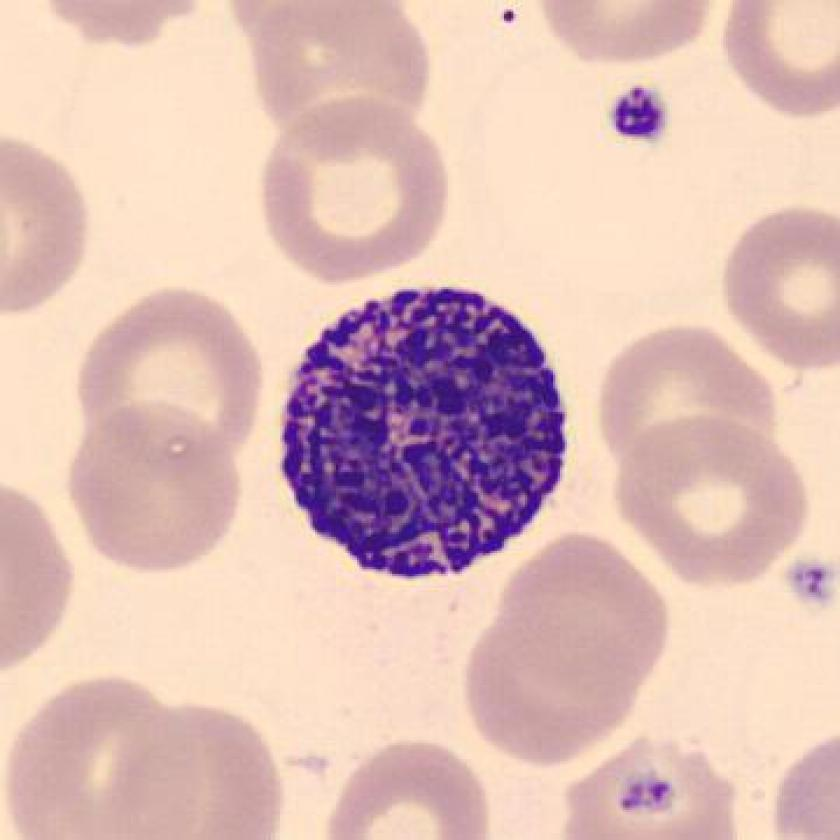basophil: (269, 281, 580, 596)
